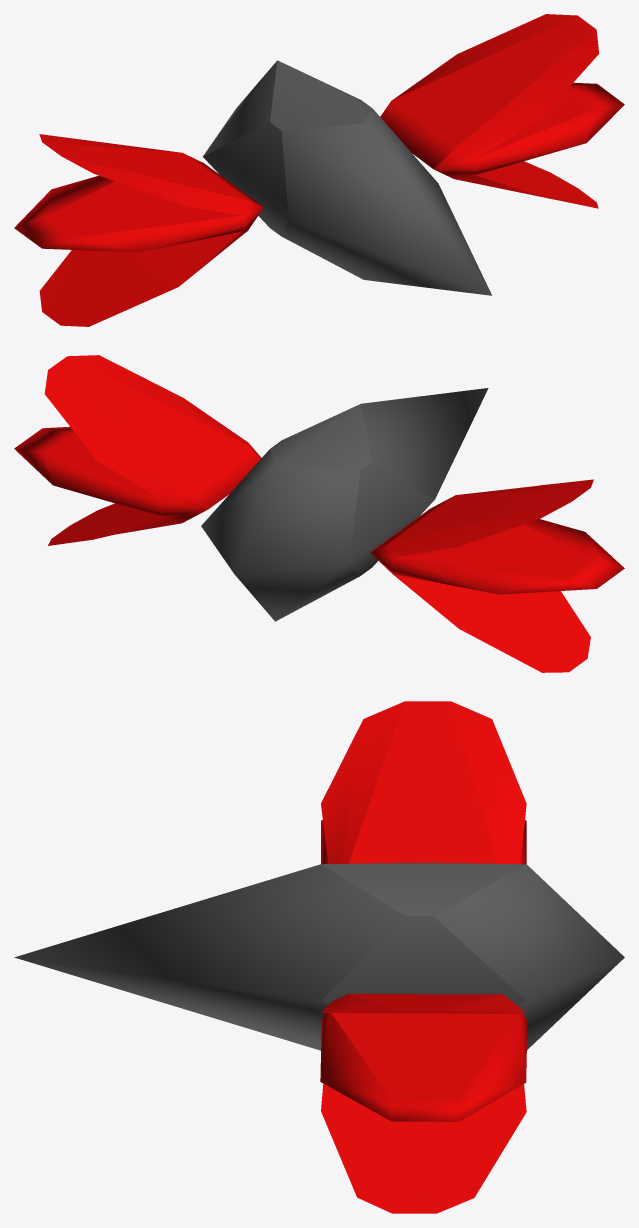
The model's file is enemy.fbx.
3 renders of one model, top to bottom at view 1: azimuth 30°, elevation 25°; view 2: azimuth 150°, elevation 25°; view 3: azimuth 270°, elevation 25°, orthographic. The views are drawn at different scales.
Parts seen in each view (by area): view 1: pCube3; view 2: pCube3; view 3: pCube3.
Boxes of the visible parts, x1,y1,x2,y2 form: pCube3: (14,14,624,326); pCube3: (14,355,624,672); pCube3: (14,701,624,1213).
Size of the model in its own units: 3.92 by 1.09 by 2.97.
